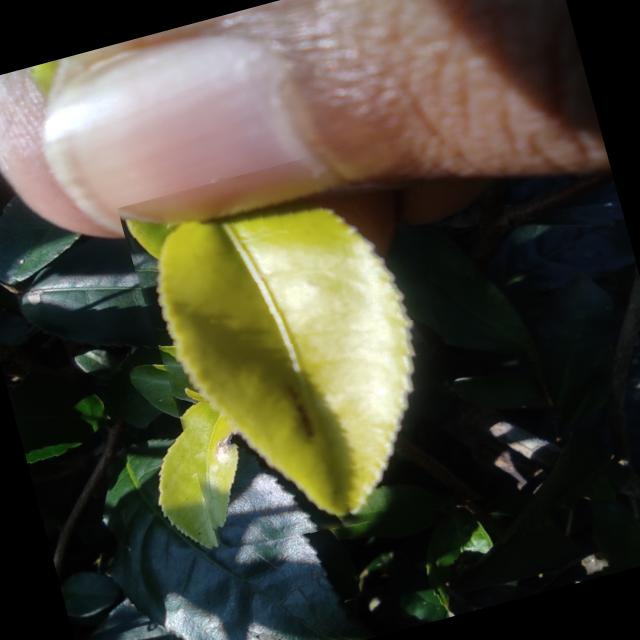Category C(4-7 days): (116, 136, 484, 572)
